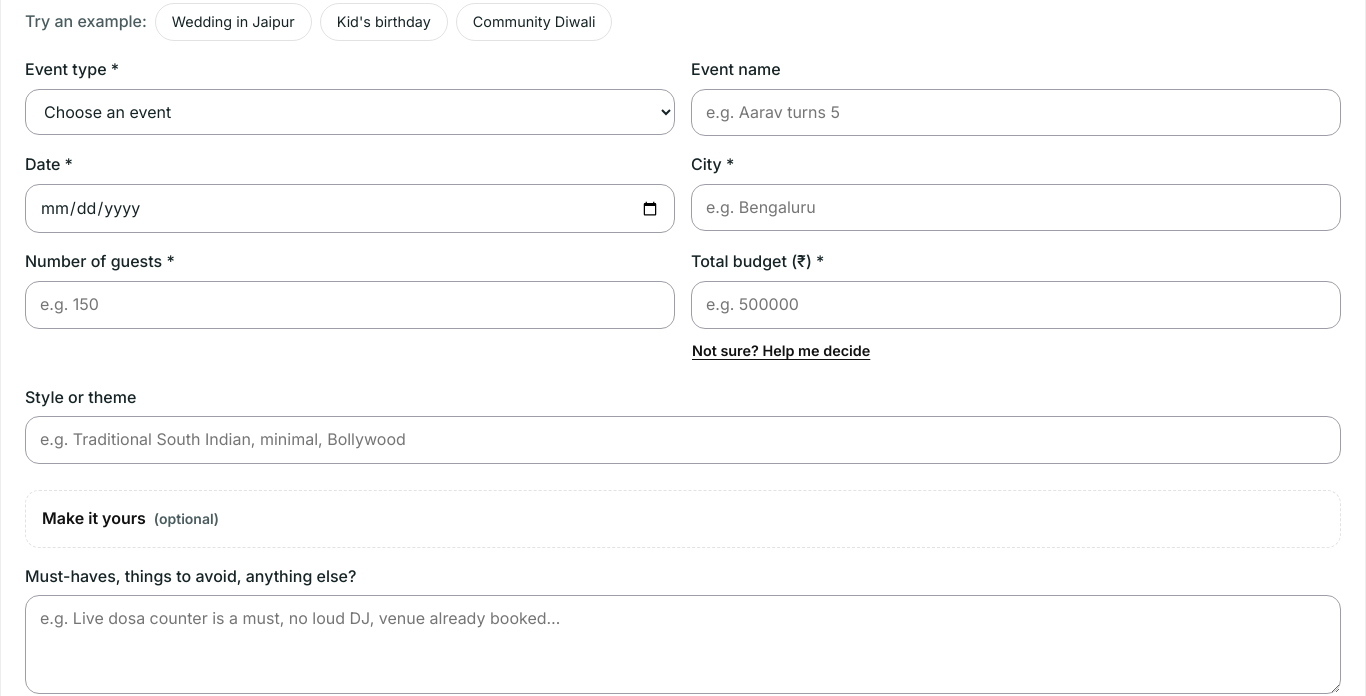
Test: Traditions in the form › checks the host's own function names and asks which other tradition
Select "Wedding" in the dropdown labelled "Event type *". click: (350, 112)
box: [25,89,675,135]
(page scrolled)
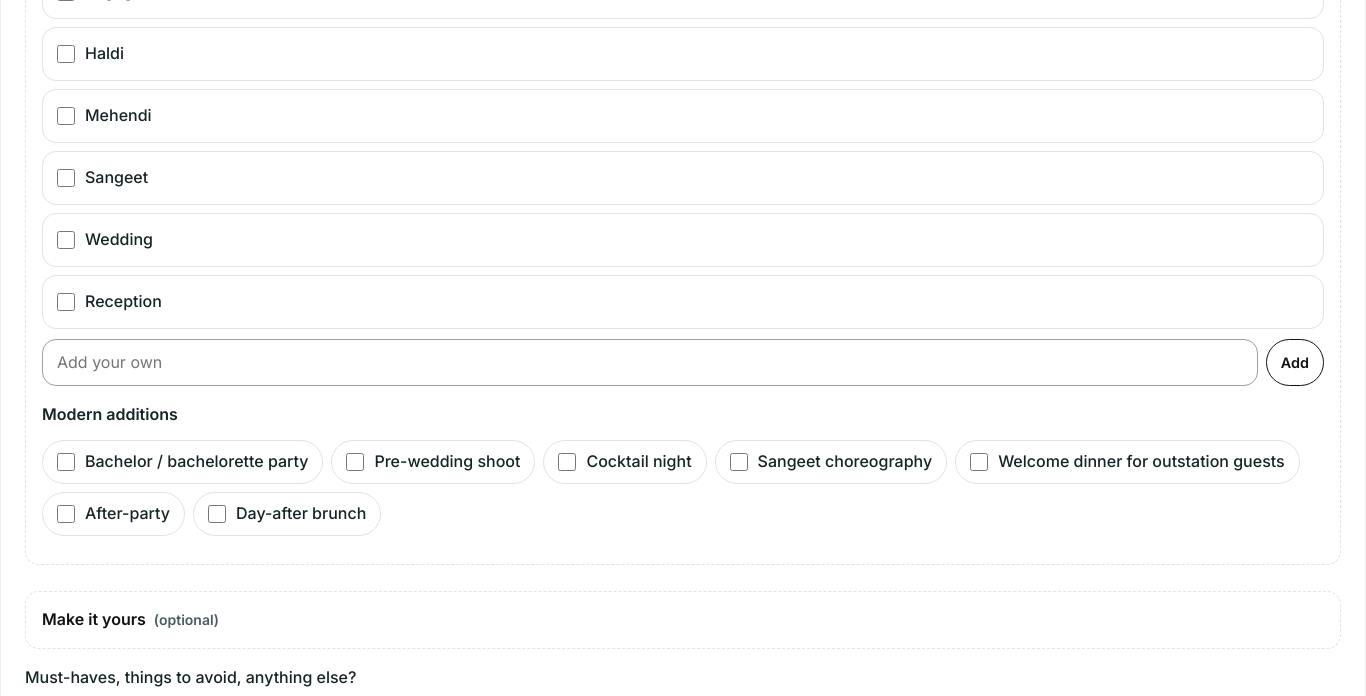
Click the button "Add". click: (1295, 362)
box: [1266,339,1324,386]
(page scrolled)
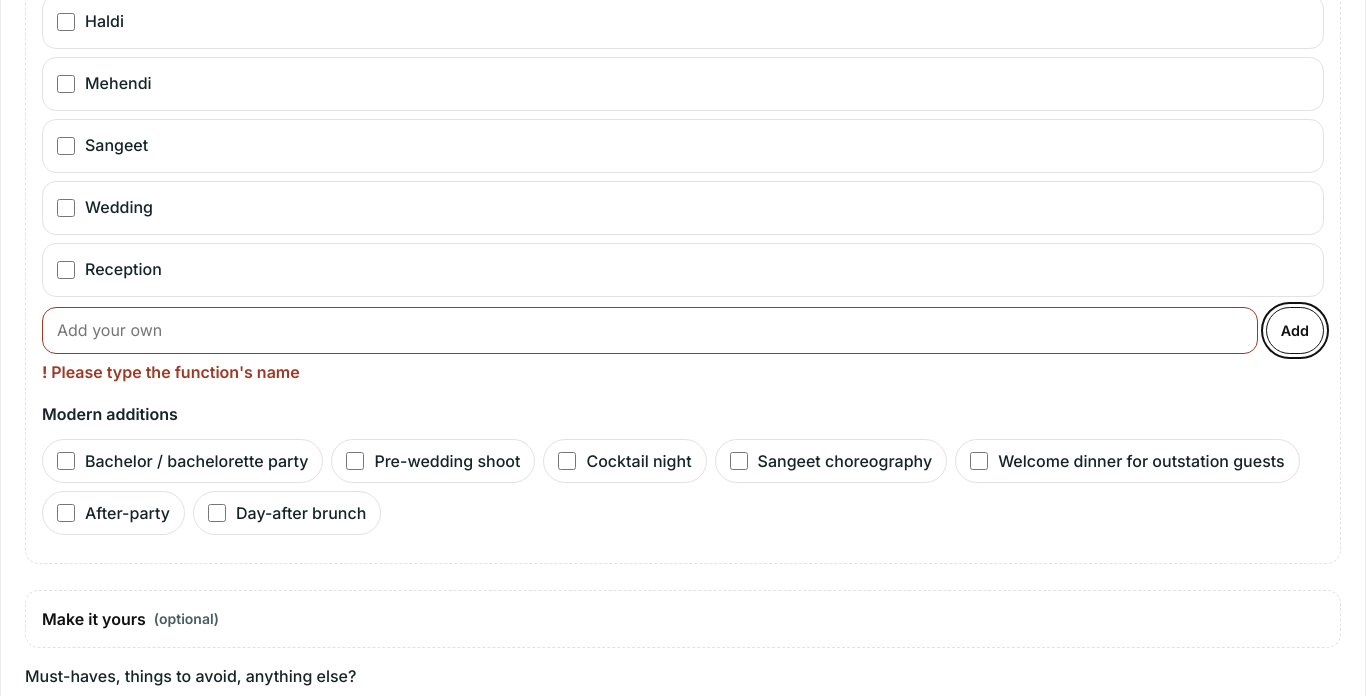
Expected: the text "Please type the function's name" is shown, [51,362,300,382]
Type "Haldi" into the field named "Add your own function". click: (650, 330)
box: [42,307,1258,354]
Then press Enter
(page scrolled)
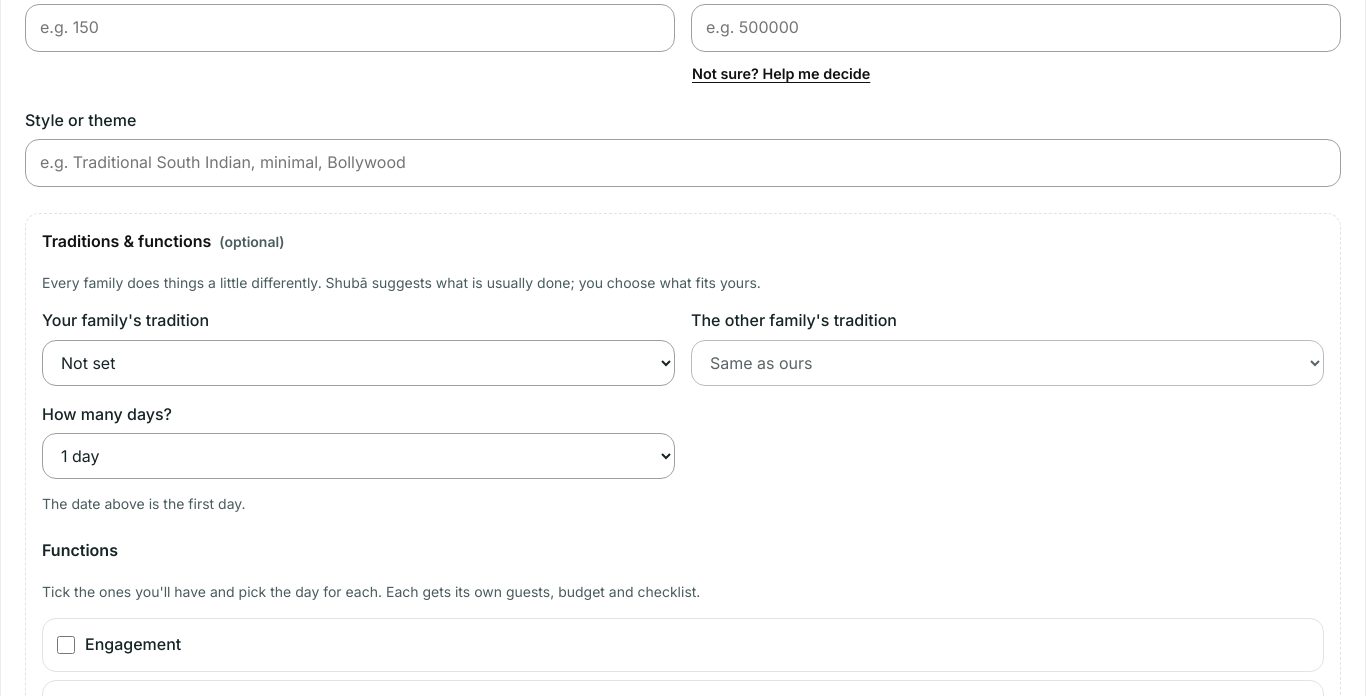
Select "Other" in the dropdown labelled "Your family's tradition". click: (358, 363)
box: [42,340,675,386]
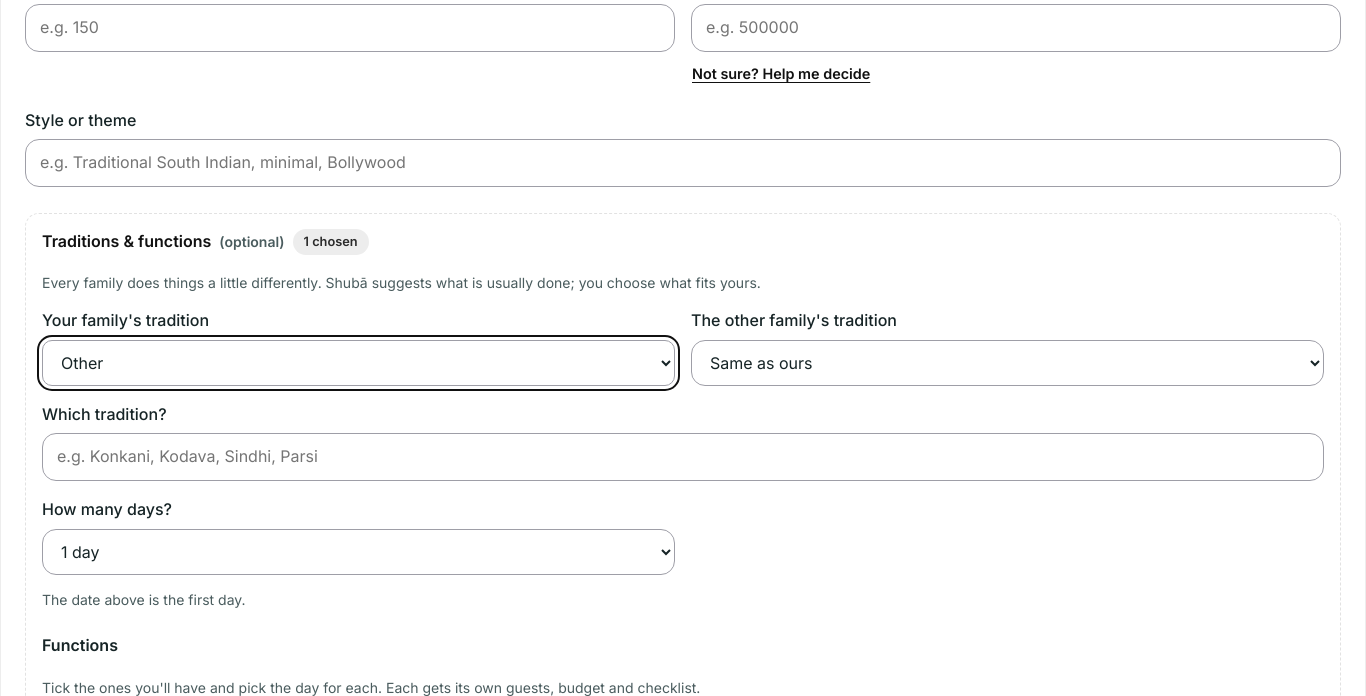
Expected: the field labelled "Which tradition?" is shown, [42,433,1324,481]
